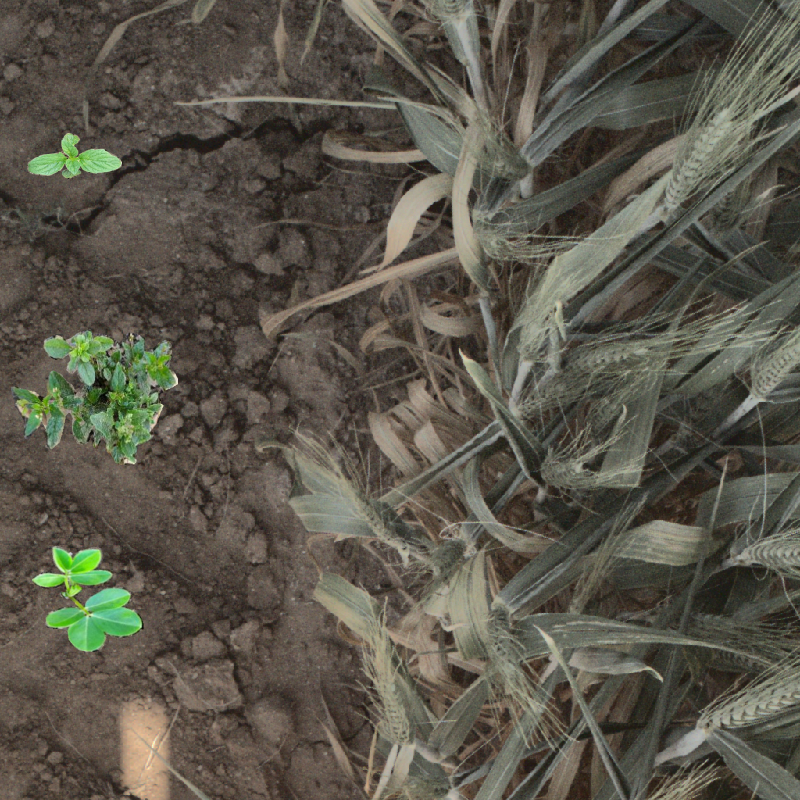spikelet: (658, 105, 739, 216), (551, 333, 672, 403), (692, 666, 800, 736), (364, 634, 413, 752), (339, 465, 394, 549), (747, 325, 800, 402), (557, 572, 599, 653), (482, 604, 525, 680), (483, 115, 529, 183), (477, 204, 526, 264), (734, 531, 800, 573), (687, 602, 762, 636), (427, 533, 472, 577), (538, 451, 589, 489)
weed: (11, 329, 178, 465), (32, 546, 144, 652), (27, 133, 122, 179)
